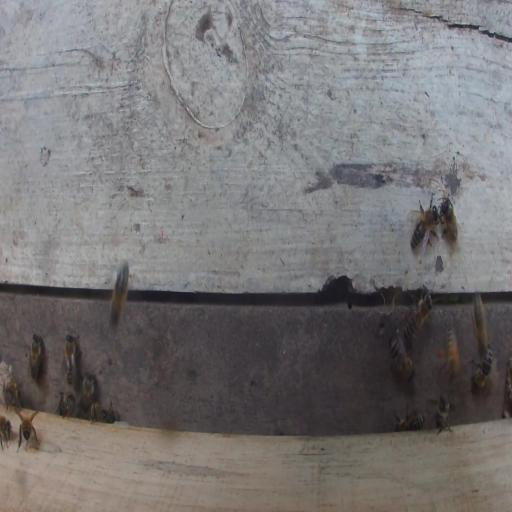bee: (410, 195, 440, 256), (403, 286, 434, 344), (437, 323, 464, 383), (388, 333, 415, 382), (110, 260, 129, 329), (61, 332, 81, 394), (15, 405, 39, 453), (470, 343, 493, 390), (473, 291, 490, 352), (438, 195, 459, 242), (393, 404, 426, 431), (435, 393, 452, 435), (30, 333, 44, 382), (81, 371, 96, 410), (89, 401, 115, 423), (56, 391, 76, 417), (0, 415, 13, 450), (5, 387, 21, 409)
